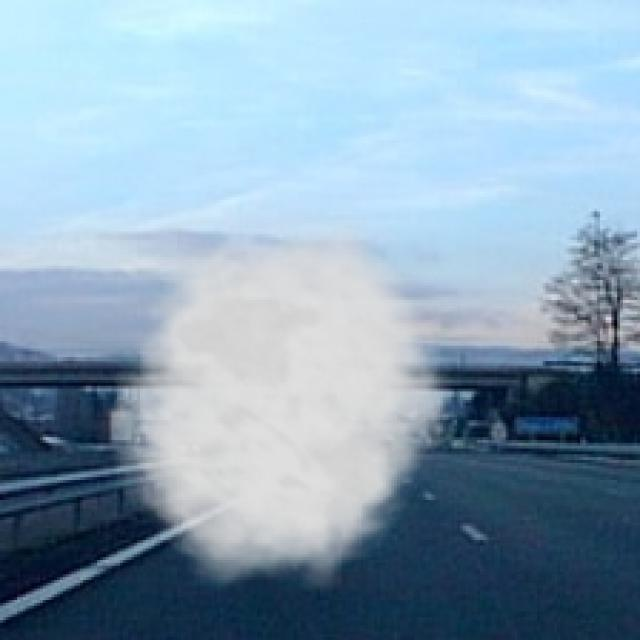Smoke: (94, 214, 460, 592)
